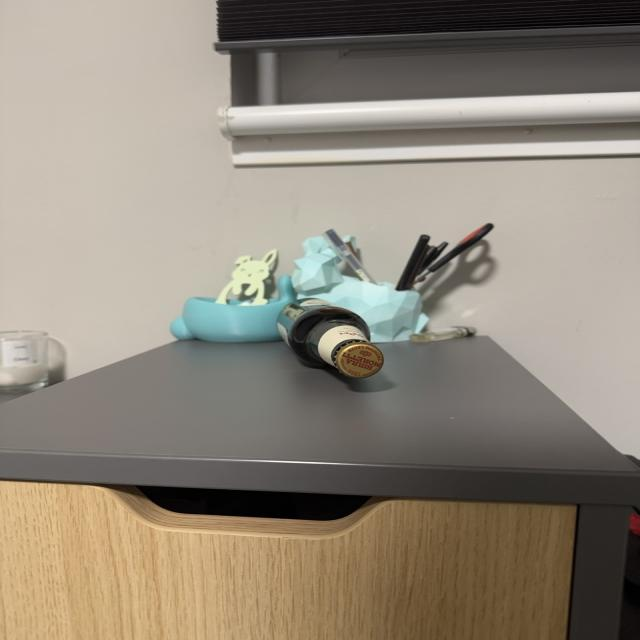beer: (272, 293, 389, 387)
